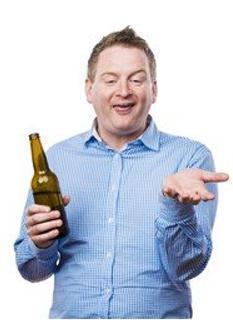Drunk: (96, 49, 149, 128)
